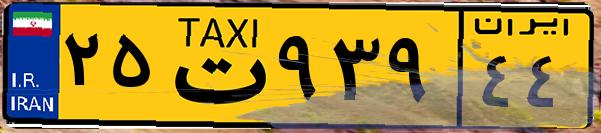2: (57, 26, 110, 100)
3: (330, 28, 385, 110)
4: (475, 38, 525, 113), (525, 38, 570, 115)
5: (110, 28, 158, 98)
9: (270, 28, 330, 110), (385, 28, 445, 110)
ت: (158, 12, 270, 120)
